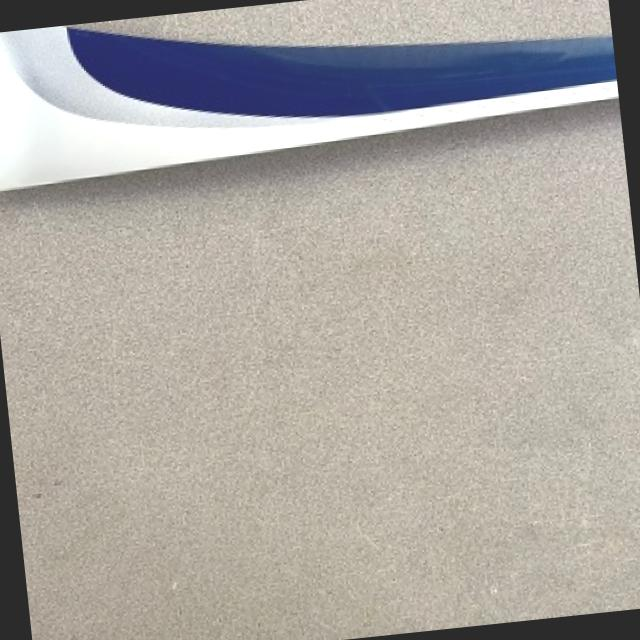healthy: (0, 25, 618, 186)
